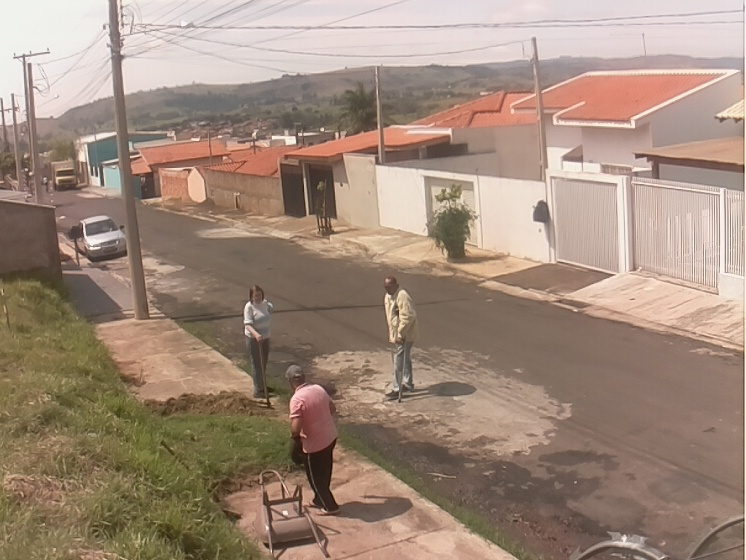person: (285, 364, 342, 515), (383, 275, 418, 398), (243, 284, 280, 399)
